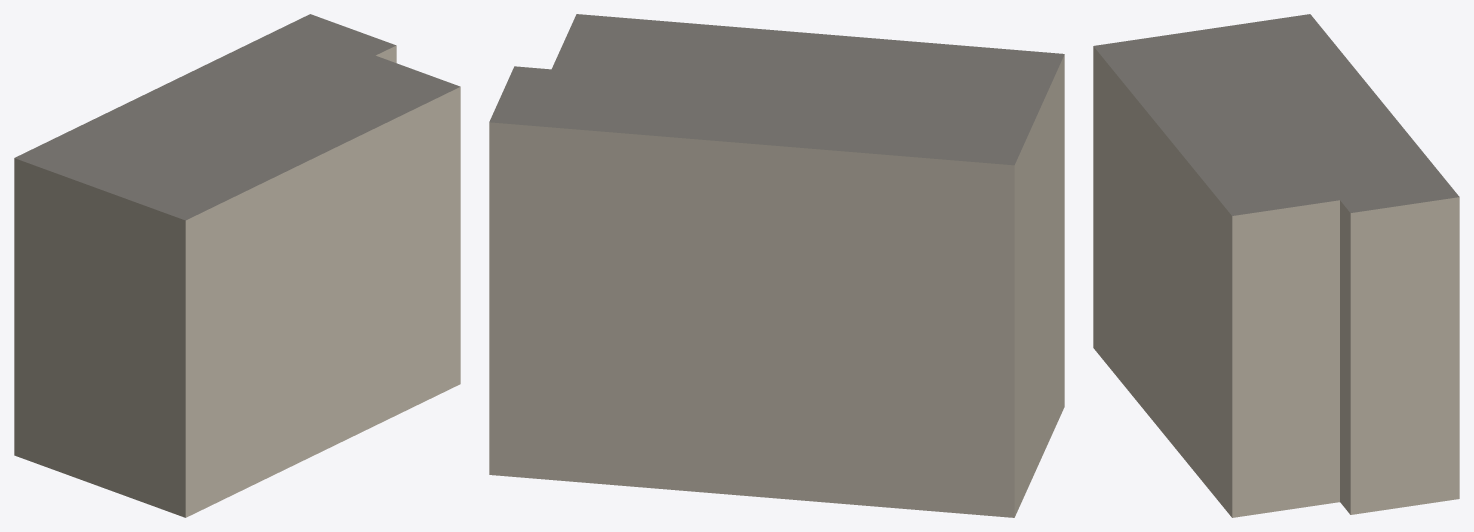
3 views of the same model, side by side, from view 1: azimuth 30°, elevation 25°; view 2: azimuth 150°, elevation 25°; view 3: azimuth 270°, elevation 25° (orthographic). The views are drawn at different scales.
Parts seen in each view (by area): view 1: HP-w1435851522; view 2: HP-w1435851522; view 3: HP-w1435851522.
Part boxes in pixels (x1,y1,x2,y2): HP-w1435851522: (14,14,460,517); HP-w1435851522: (489,14,1064,517); HP-w1435851522: (1093,14,1459,517).
Bounding box in the file's own units: 25.84 × 18 × 19.8.
